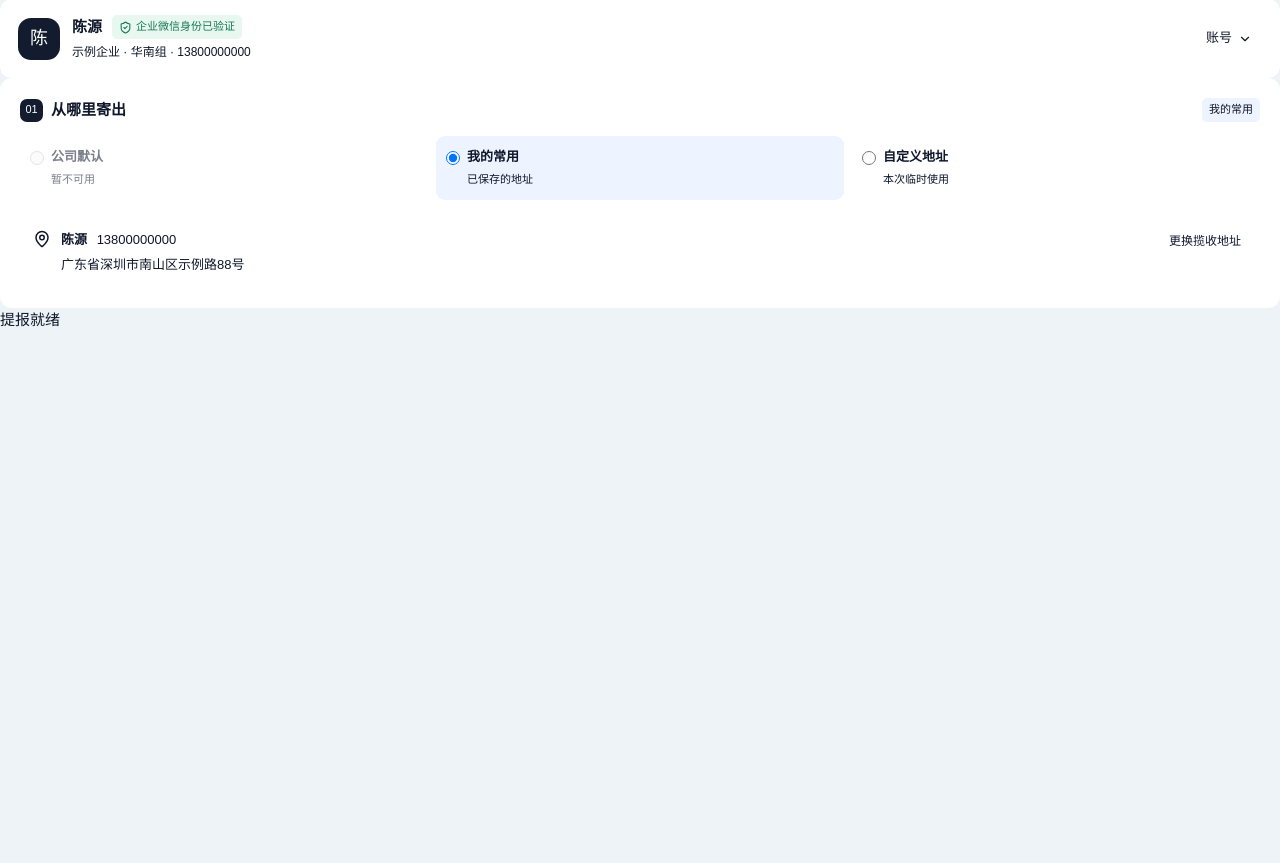
Test: preserves saved pickup details when a new paste is not a complete address
Click the button "更换揽收地址" at point(1205, 242), box x1=1163 y1=227 x2=1247 y2=257
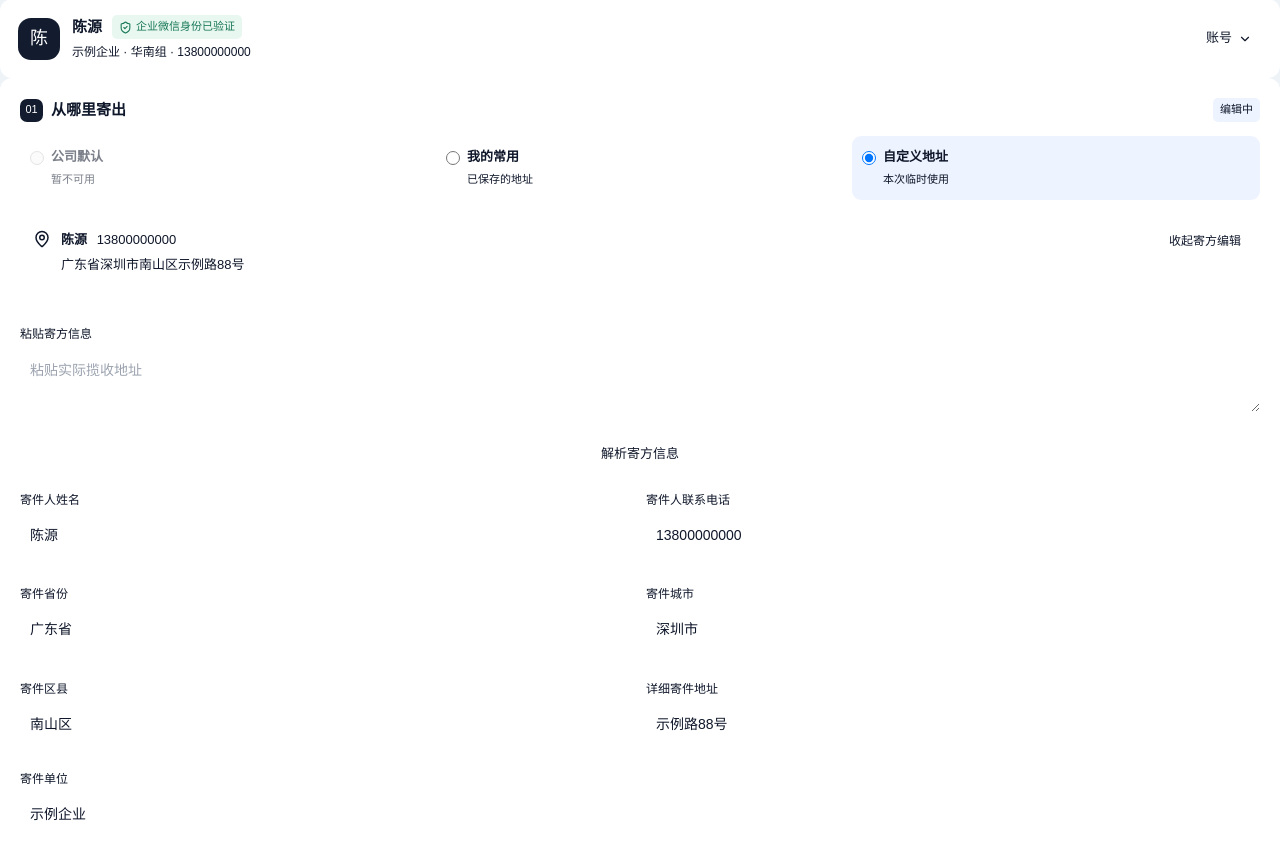
Expected: the text box named "寄方地址文本" is shown
Type "这里没有可以识别的地区" into the text box named "寄方地址文本" at point(640, 381), box x1=20 y1=350 x2=1260 y2=412
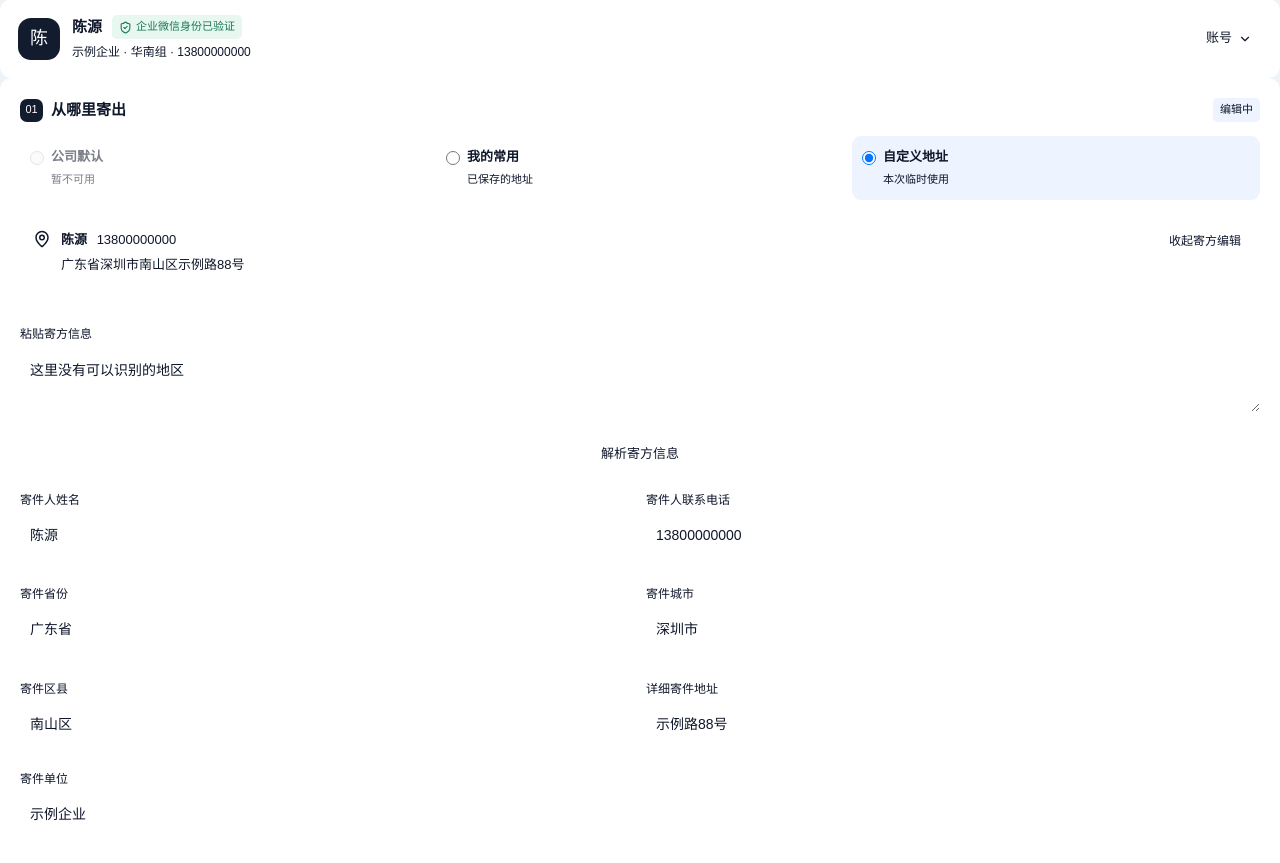
Click the button "解析寄方信息" at point(640, 454), box x1=20 y1=436 x2=1260 y2=474
(page scrolled)
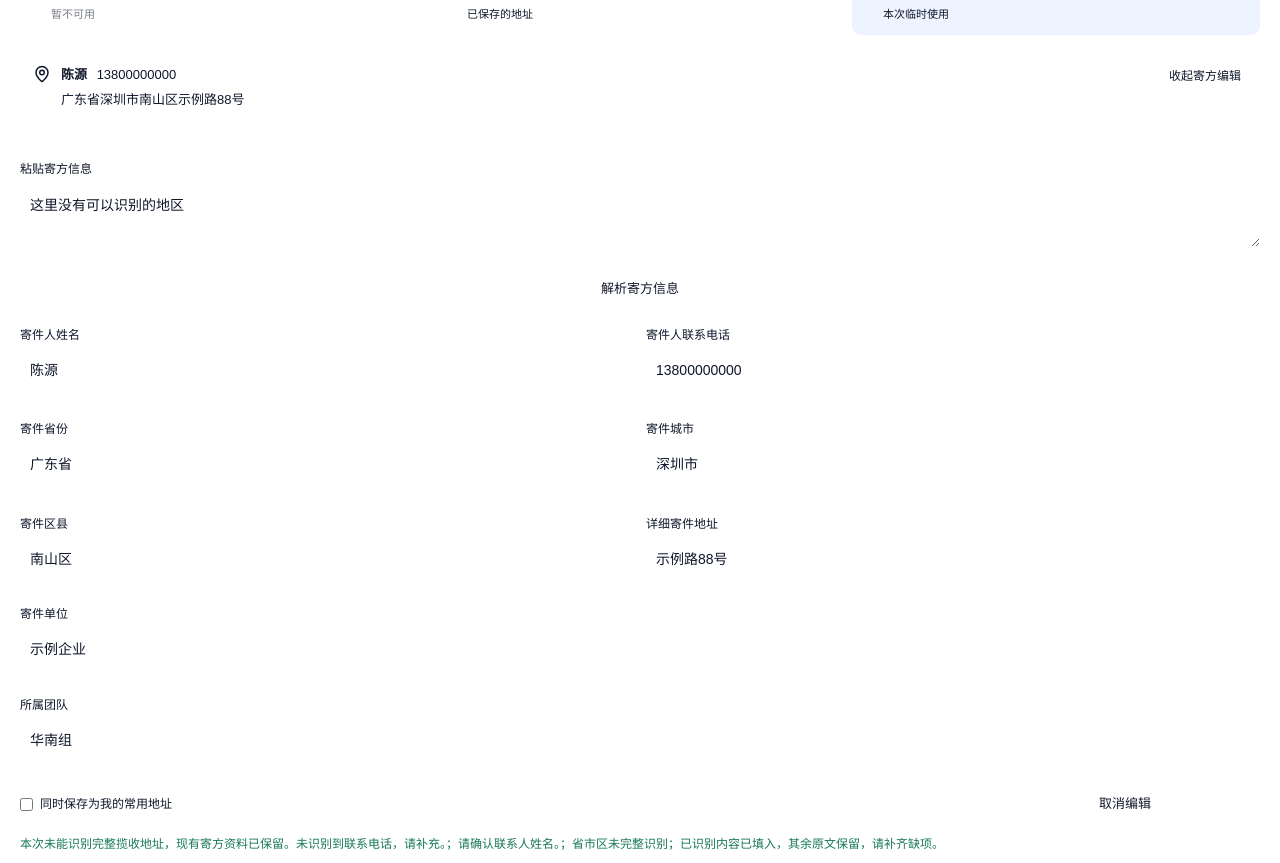
Expected: the field labelled "寄件省份" holds "广东省", x1=20 y1=444 x2=634 y2=485
Expected: the field labelled "详细寄件地址" holds "示例路88号", x1=646 y1=539 x2=1260 y2=579
Expected: the message shows "现有寄方资料已保留", x1=20 y1=837 x2=944 y2=851
